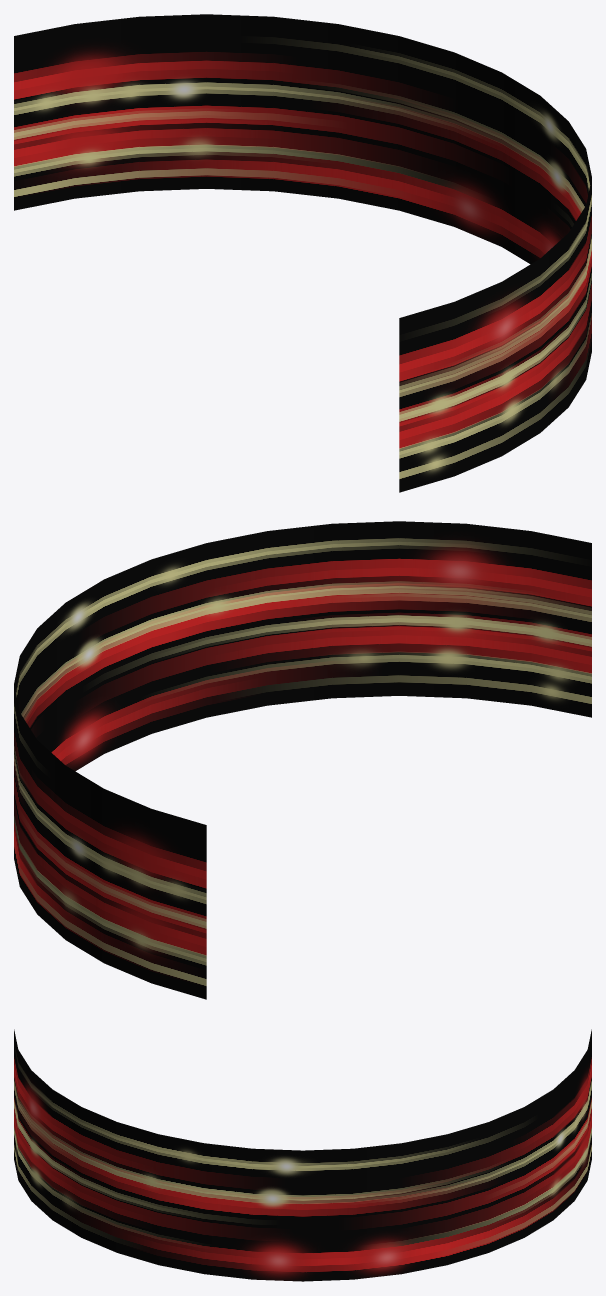
The model's file is Elvis_Lightstreak_02.FBX.
3 views of the same model, one above another, from view 1: azimuth 30°, elevation 25°; view 2: azimuth 150°, elevation 25°; view 3: azimuth 270°, elevation 25° (orthographic). The views are drawn at different scales.
Parts seen in each view (by area): view 1: Cylinder001; view 2: Cylinder001; view 3: Cylinder001.
Boxes of the visible parts, x1,y1,x2,y2 form: Cylinder001: [14, 14, 591, 492]; Cylinder001: [14, 521, 591, 999]; Cylinder001: [14, 1029, 591, 1281].
Bounding box in the file's own units: 20 × 40 × 10.
